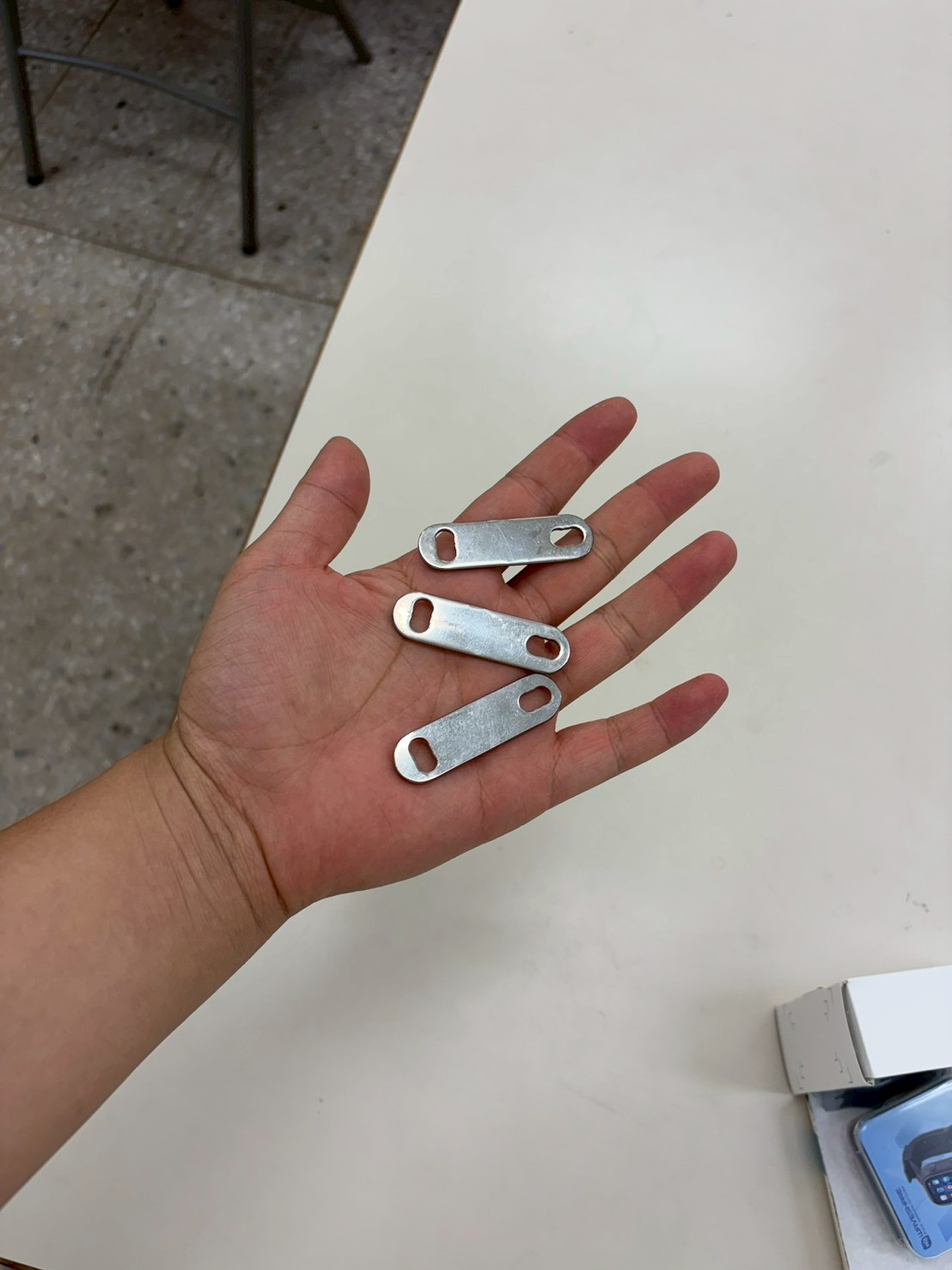Fe: (409, 790, 464, 974), (413, 576, 468, 760), (387, 634, 442, 818)
